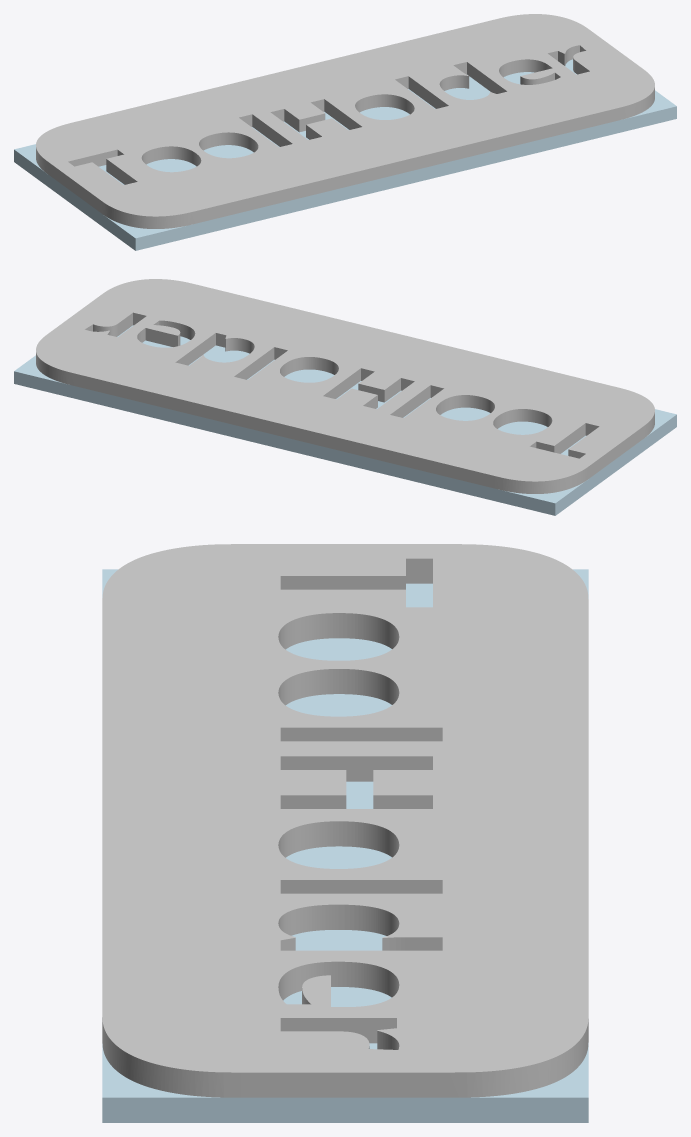
The model's file is Toolholder milling.fbx.
The picture shows the model from 3 angles, top to bottom: view 1: azimuth 30°, elevation 25°; view 2: azimuth 150°, elevation 25°; view 3: azimuth 270°, elevation 25°; orthographic projection. The views are drawn at different scales.
Visible parts, largest first — view 1: imagetostl_mesh0, imagetostl_mesh1; view 2: imagetostl_mesh0, imagetostl_mesh1; view 3: imagetostl_mesh0, imagetostl_mesh1.
Part boxes in pixels (<box>): imagetostl_mesh0: <box>36,14,654,228</box>; imagetostl_mesh1: <box>14,59,676,250</box>; imagetostl_mesh0: <box>36,279,654,493</box>; imagetostl_mesh1: <box>14,325,676,515</box>; imagetostl_mesh0: <box>102,544,588,1097</box>; imagetostl_mesh1: <box>102,569,588,1122</box>.
Bounding box in the file's own units: 9000 × 400 × 3500.
